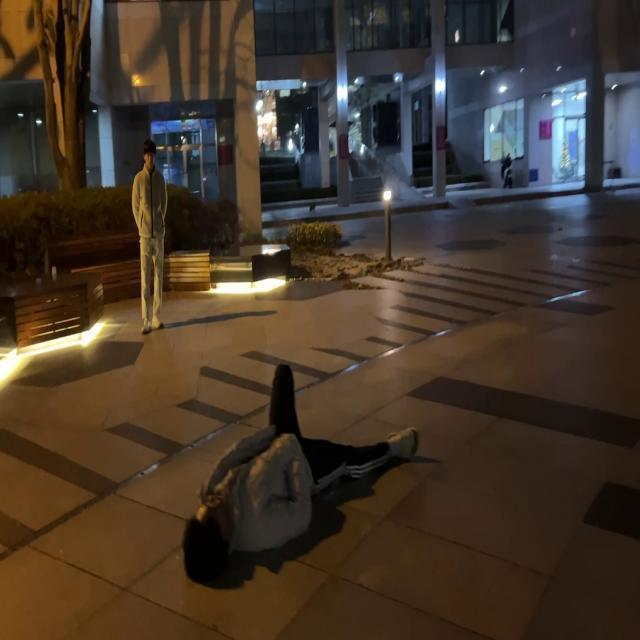Fall: (183, 365, 419, 584)
Stand: (131, 139, 167, 334)
